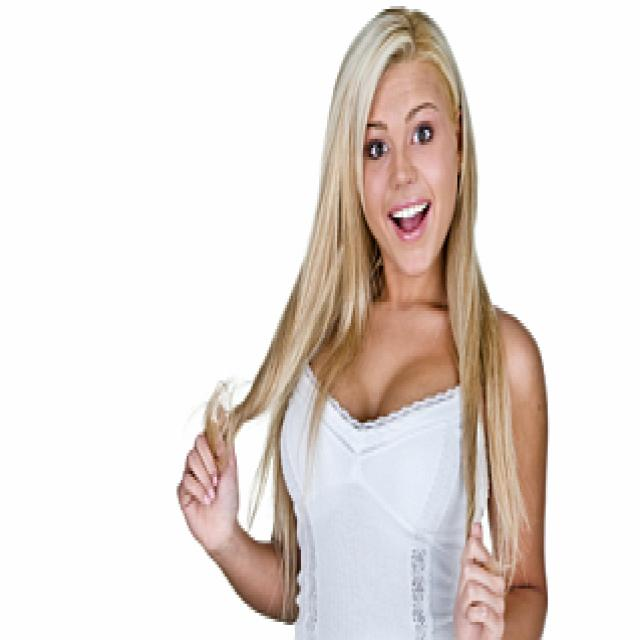human: (175, 5, 552, 640)
